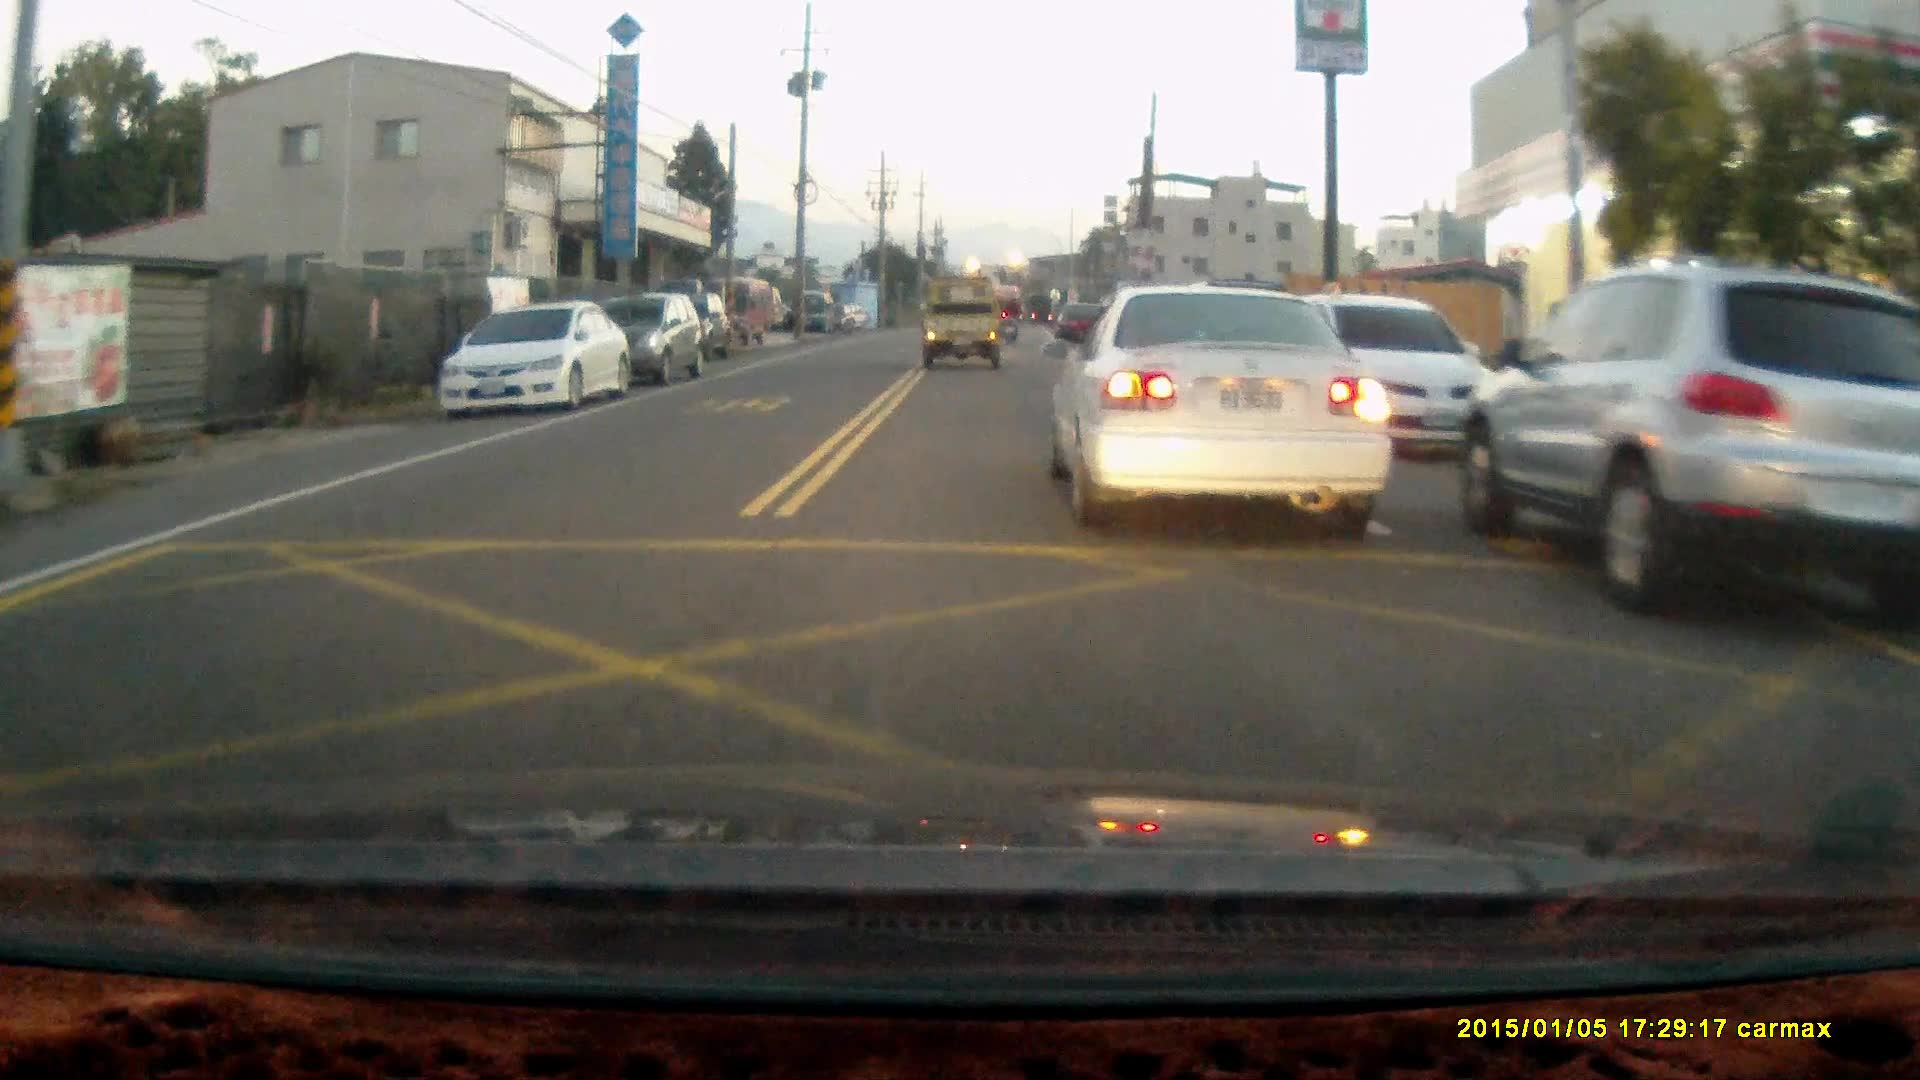rider: (996, 293, 1022, 342)
vehicle: (1460, 263, 1920, 626), (1055, 279, 1392, 523), (1269, 288, 1502, 463), (438, 294, 631, 419), (583, 294, 708, 388), (632, 279, 736, 361), (923, 271, 1010, 367), (716, 274, 780, 344), (1054, 301, 1117, 349)
